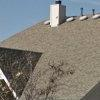Chimney: (45, 1, 69, 37)
